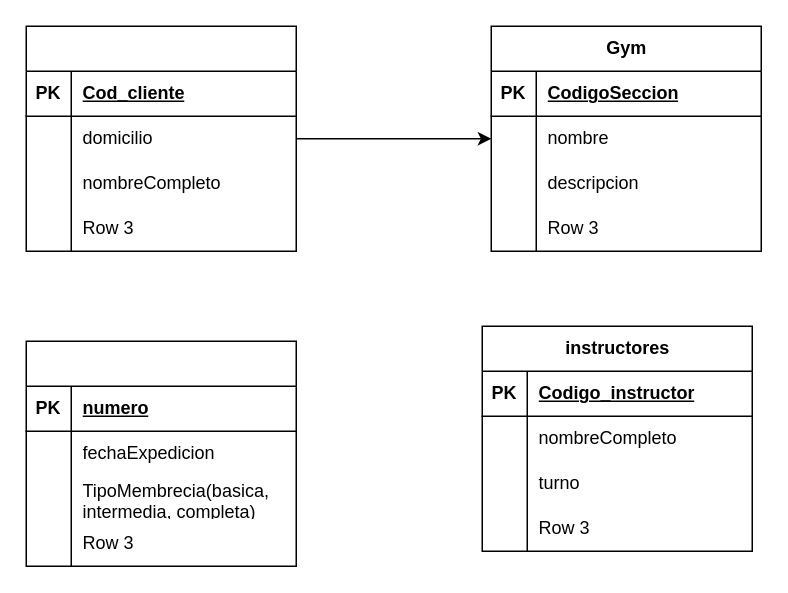
The diagram is 788 pixels wide and 593 high, and some of its shapes have lost their labels. The shapes that lost their labels are listed below. From the top down, each one's box as (x1, y1, x2, y2) in pixels, then its label:
(25, 25, 296, 251): Clientes
(25, 340, 296, 566): Membresia
